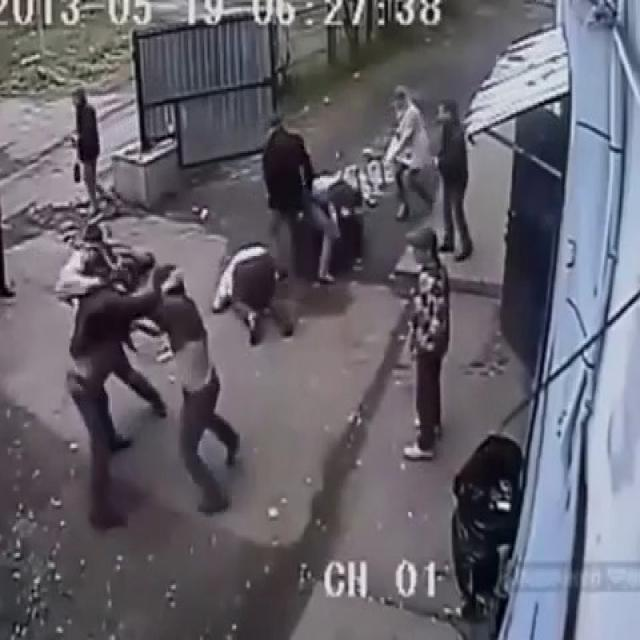fight: (69, 248, 243, 525)
